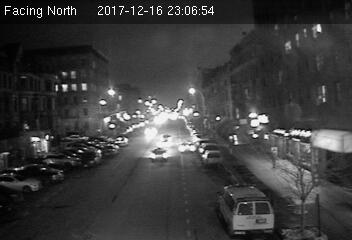car: (202, 150, 224, 166), (149, 147, 169, 163), (178, 142, 197, 154)
police: (215, 182, 276, 233)
